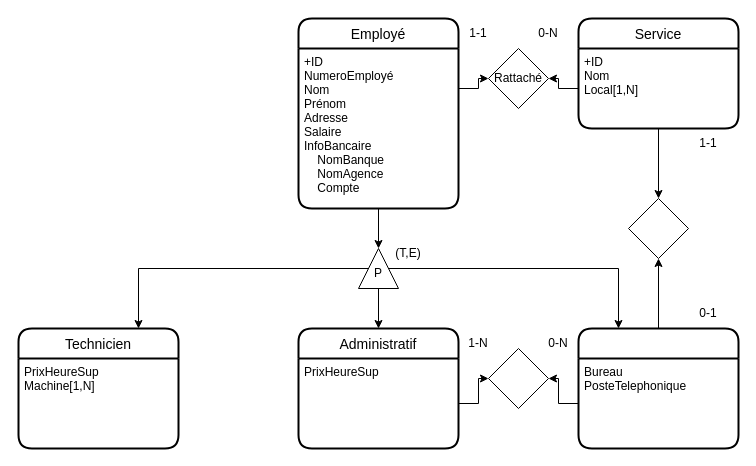
Some shapes in this 756 by 466 pixel diagram are drawn without their labels. The box of each missing label's shape, as (x1, y1, x2, y2) in pixels:
Cadre: (577, 327, 739, 449)
Dirige: (628, 198, 688, 258)
Travaille: (488, 348, 548, 408)
